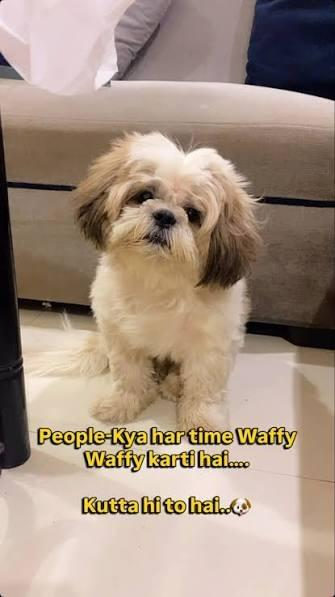adult_dog: (28, 129, 260, 468)
